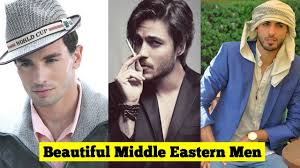middle_eastern_male: (8, 37, 90, 109)
